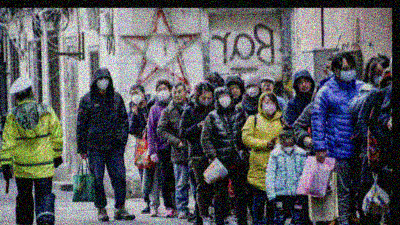with_mask: (337, 60, 356, 80), (262, 97, 277, 115), (216, 92, 233, 107), (372, 66, 385, 85), (130, 88, 144, 103), (281, 140, 295, 154), (245, 82, 259, 96), (96, 75, 110, 89), (157, 85, 170, 100), (199, 93, 212, 105)
without_mask: (296, 75, 311, 92), (227, 83, 241, 98), (173, 87, 185, 103), (261, 81, 272, 92)
